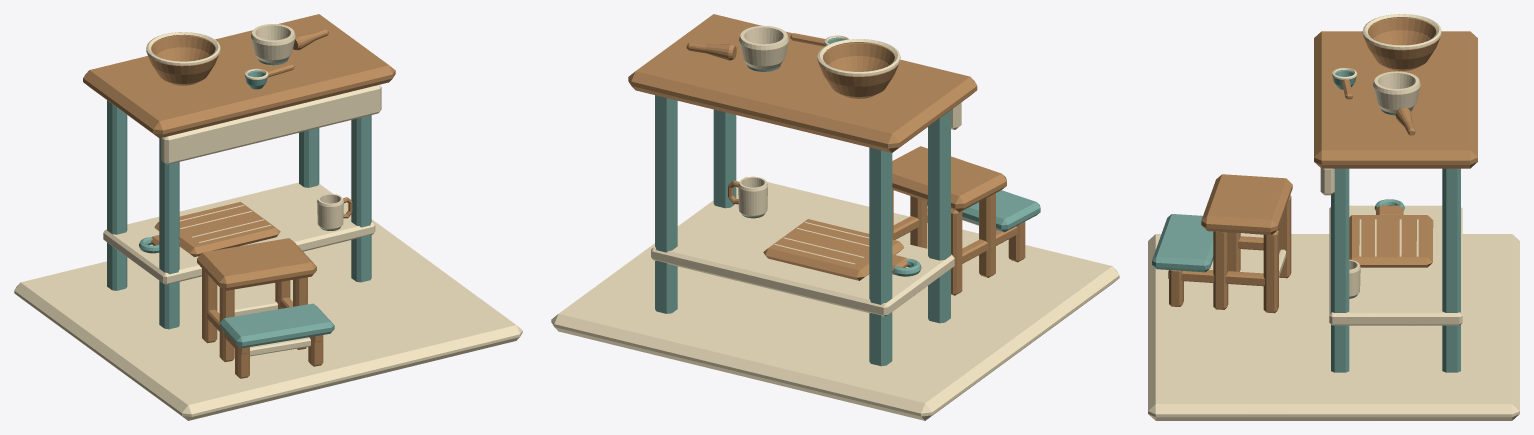
The picture shows the model from 3 angles, left to right: view 1: azimuth 30°, elevation 25°; view 2: azimuth 150°, elevation 25°; view 3: azimuth 270°, elevation 25°; orthographic projection. The views are drawn at different scales.
Parts seen in each view (by area): view 1: kitchen-pantry-scene-01; view 2: kitchen-pantry-scene-01; view 3: kitchen-pantry-scene-01.
Boxes of the visible parts, x1,y1,x2,y2 form: kitchen-pantry-scene-01: (14, 14, 522, 420); kitchen-pantry-scene-01: (551, 14, 1119, 420); kitchen-pantry-scene-01: (1148, 14, 1519, 420).
Bounding box in the file's own units: 1.35 × 0.992 × 1.2.
